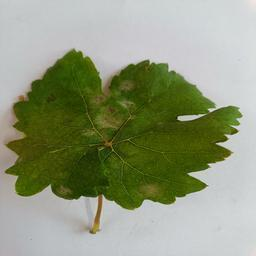Powdery-Mildew: (96, 96, 136, 131), (134, 180, 167, 199), (83, 83, 105, 107), (56, 180, 78, 198), (120, 77, 136, 94), (81, 127, 94, 139)
